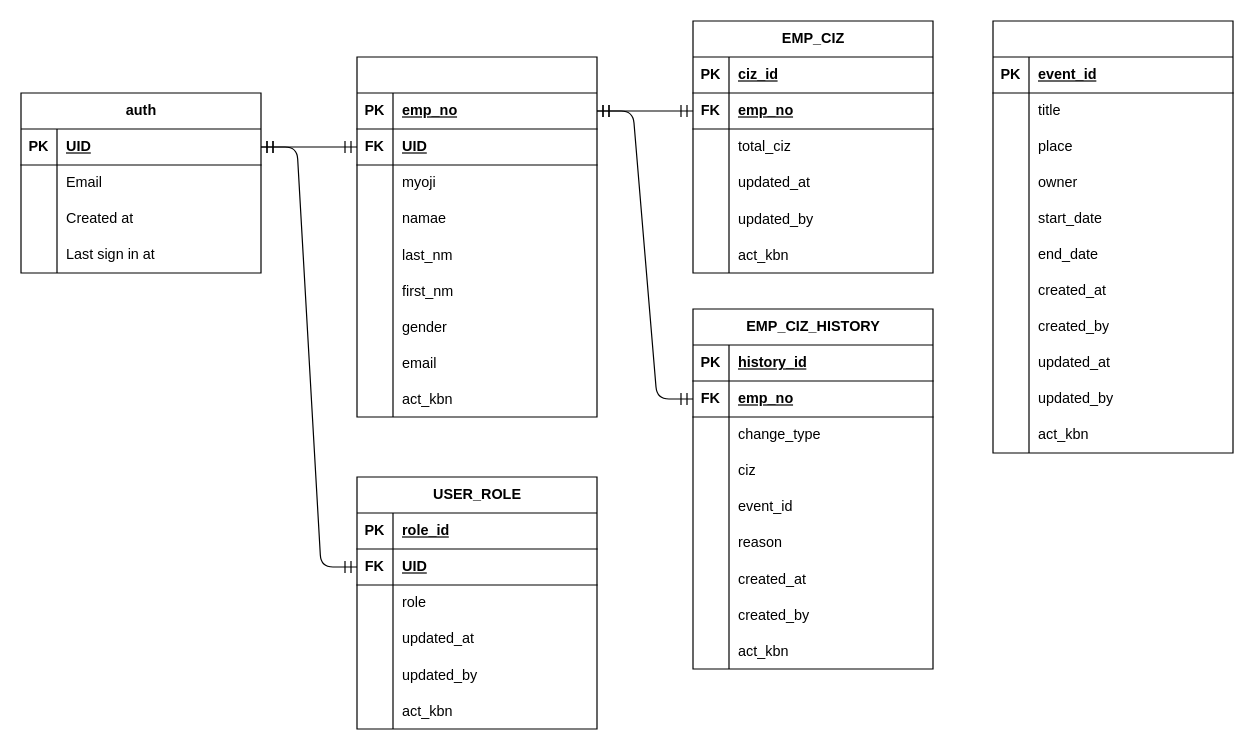
The diagram is 1254 pixels wide and 750 high, and some of its shapes have lost their labels. The shapes that lost their labels are listed below. From the top down, each one's box as (x1, y1, x2, y2) in pixels, then its label:
(356, 56, 597, 417): USER_INFO
(992, 20, 1233, 453): EVENT_LIST
